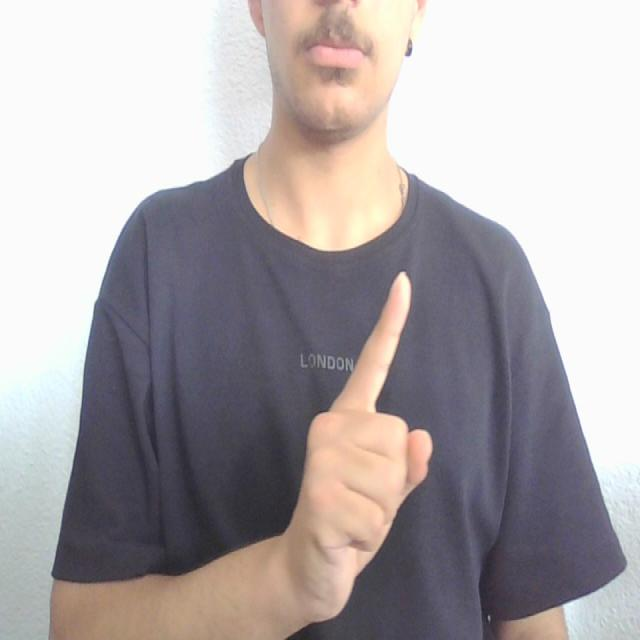Hayir: (284, 250, 454, 630)
